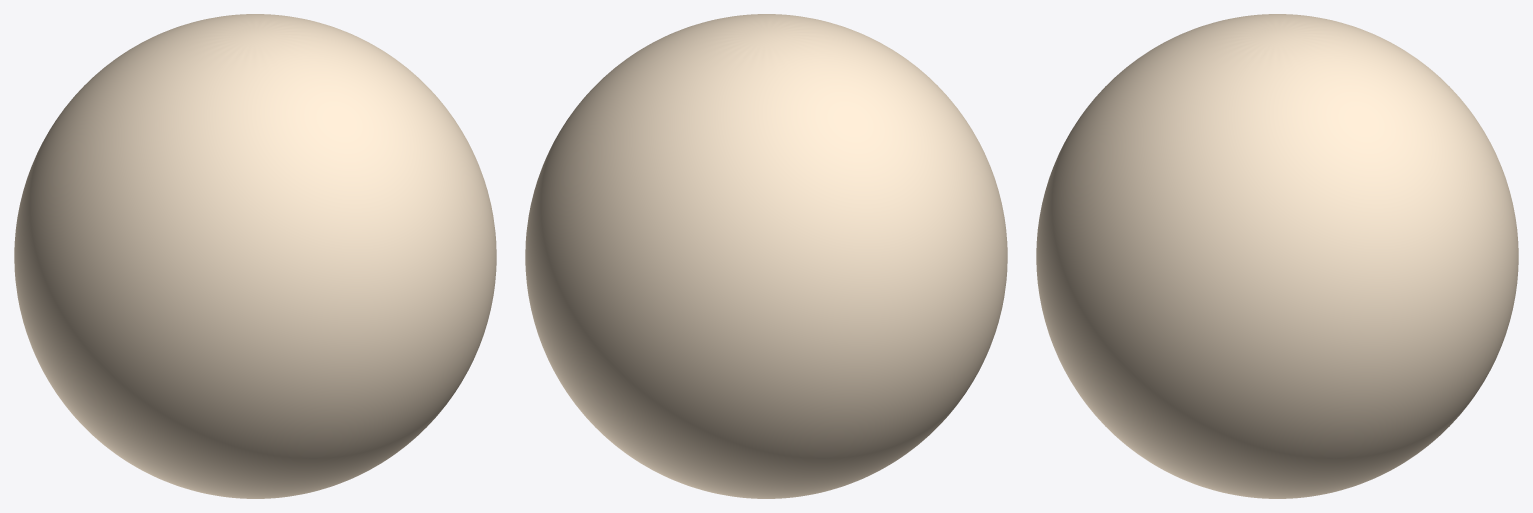
3 renders of one model, left to right at view 1: azimuth 30°, elevation 25°; view 2: azimuth 150°, elevation 25°; view 3: azimuth 270°, elevation 25°, orthographic.
Visible parts, largest first — view 1: Sphere; view 2: Sphere; view 3: Sphere.
Part boxes in pixels (x1,y1,x2,y2): Sphere: (14,14,496,498); Sphere: (525,14,1007,498); Sphere: (1036,14,1518,498).
Bounding box in the file's own units: 1974 × 1995 × 1974.
